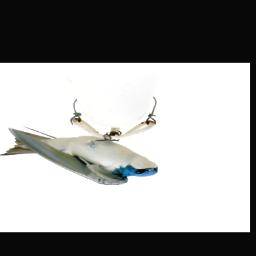Swallow: (0, 124, 159, 186)
